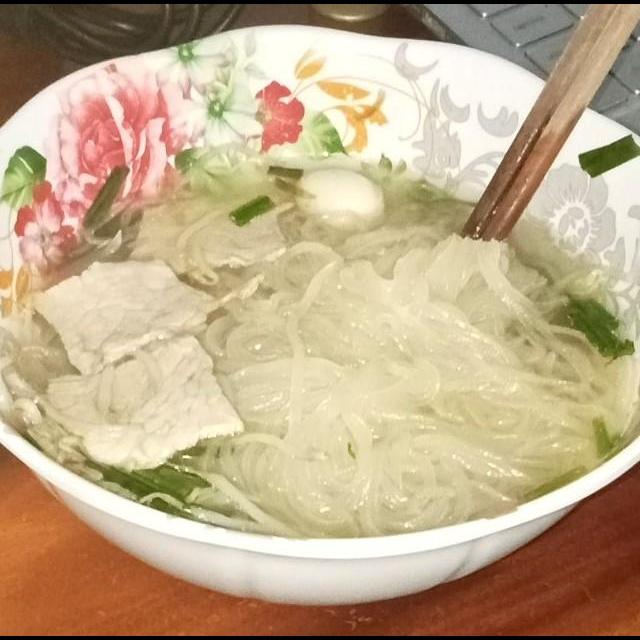banh hu tieu: (203, 217, 629, 545)
hu tieu: (0, 54, 640, 614)
thit heo: (38, 327, 247, 477), (20, 253, 225, 377), (123, 189, 301, 277)
trung: (291, 166, 388, 233)
